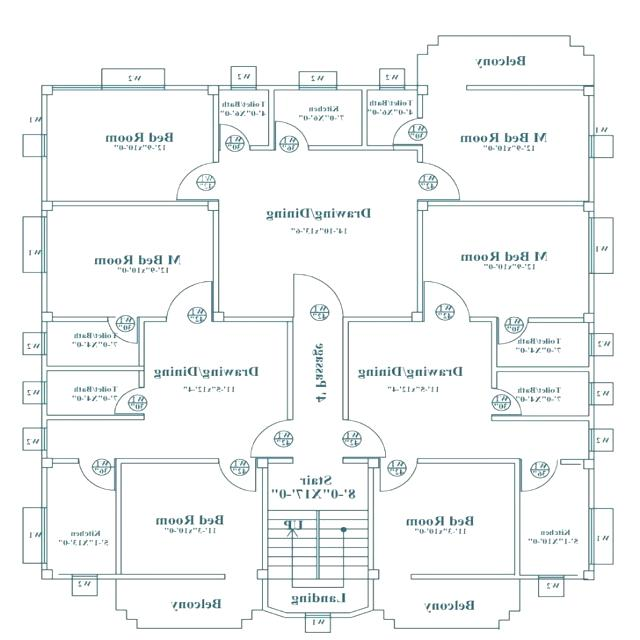Blueprint: (32, 74, 606, 591)
column: (412, 195, 432, 215), (364, 454, 386, 472), (204, 82, 225, 100), (205, 309, 228, 325), (412, 82, 432, 99), (578, 83, 598, 100), (37, 309, 58, 325), (253, 454, 271, 472), (580, 456, 598, 474), (36, 455, 56, 471), (252, 566, 272, 582), (580, 566, 600, 582), (407, 310, 428, 324), (38, 82, 56, 98), (205, 198, 223, 214), (38, 567, 56, 583), (580, 198, 598, 214), (580, 310, 598, 326), (39, 198, 55, 215), (365, 566, 382, 582)
wall: (114, 461, 124, 576), (426, 200, 584, 207), (97, 572, 227, 580), (112, 456, 220, 465), (52, 200, 208, 206), (409, 573, 540, 580), (513, 462, 521, 574), (212, 210, 220, 312), (286, 320, 294, 420), (497, 366, 589, 374), (465, 84, 585, 90), (342, 322, 349, 421), (306, 144, 416, 150), (416, 458, 520, 464), (262, 467, 268, 570), (368, 467, 374, 569), (490, 415, 590, 421), (46, 414, 144, 420), (212, 94, 220, 162), (418, 210, 423, 312), (267, 90, 275, 150), (528, 316, 584, 324), (360, 90, 368, 145), (491, 316, 497, 389), (224, 316, 294, 322), (342, 316, 412, 322), (46, 366, 144, 370), (138, 322, 144, 387), (40, 466, 49, 508), (53, 316, 109, 322), (586, 468, 594, 509), (587, 273, 595, 313), (42, 156, 48, 201), (588, 157, 594, 201), (367, 579, 375, 611), (588, 96, 594, 136), (42, 95, 48, 135), (42, 272, 48, 312), (336, 85, 380, 90), (255, 85, 299, 90), (164, 85, 208, 90), (268, 456, 294, 464), (342, 456, 368, 464), (262, 578, 268, 610), (40, 403, 48, 427), (416, 95, 424, 118), (137, 316, 167, 322), (51, 572, 73, 580), (588, 355, 594, 383), (41, 354, 47, 382), (52, 458, 79, 464), (559, 459, 585, 465), (250, 144, 276, 150), (588, 404, 594, 429), (469, 316, 492, 322), (284, 612, 306, 618), (331, 612, 352, 618), (403, 84, 418, 90), (417, 144, 422, 162), (218, 85, 232, 91), (563, 575, 583, 579), (40, 562, 48, 572), (589, 322, 595, 334), (42, 322, 48, 334), (588, 450, 595, 460), (41, 451, 48, 458), (588, 211, 594, 219)
